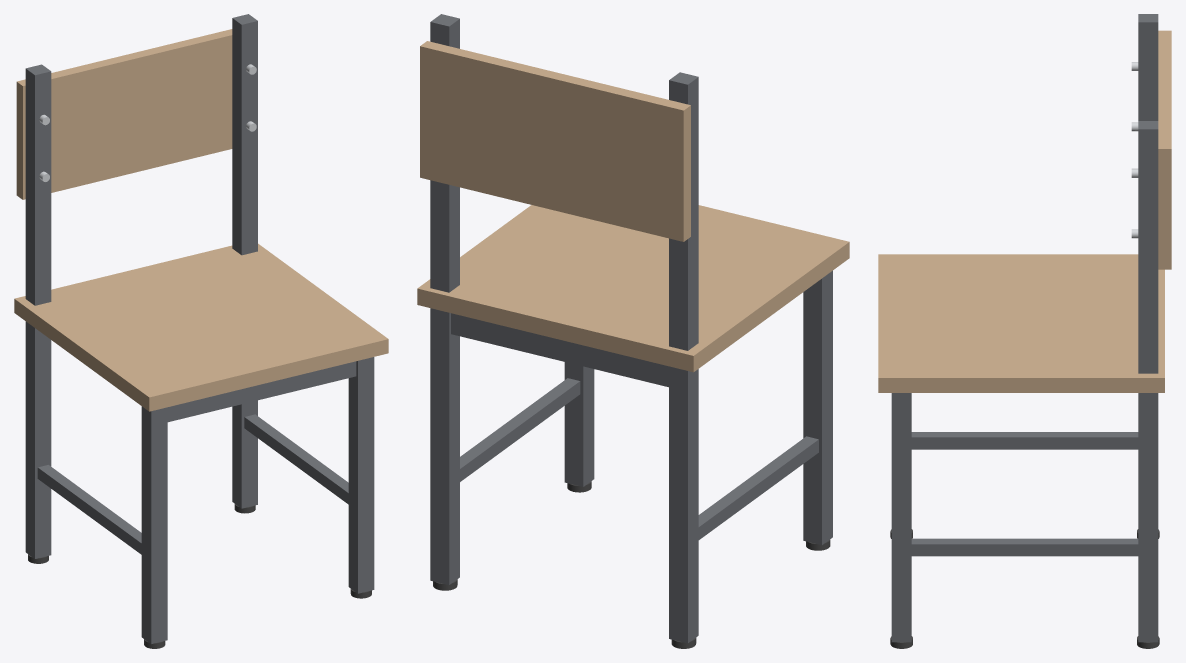
File: assembly.glb
The picture shows the model from 3 angles, left to right: view 1: azimuth 30°, elevation 25°; view 2: azimuth 150°, elevation 25°; view 3: azimuth 270°, elevation 25°; orthographic projection. The views are drawn at different scales.
Parts seen in each view (by area): view 1: seat_panel, backrest_panel, upright_rear_right, upright_rear_left, leg_front_right, leg_front_left, rail_front, stretcher_left, stretcher_right; view 2: seat_panel, backrest_panel, upright_rear_right, upright_rear_left, leg_front_right, rail_rear, leg_front_left, stretcher_right, stretcher_left; view 3: seat_panel, upright_rear_left, leg_front_left, stretcher_left, stretcher_right, backrest_panel, upright_rear_right.
Part boxes in pixels (<box>): seat_panel: <box>14,243,388,411</box>; backrest_panel: <box>16,29,232,199</box>; upright_rear_right: <box>25,64,51,558</box>; upright_rear_left: <box>232,14,257,508</box>; leg_front_right: <box>141,406,167,644</box>; leg_front_left: <box>348,357,374,593</box>; rail_front: <box>167,361,356,422</box>; stretcher_left: <box>244,414,348,504</box>; stretcher_right: <box>37,465,141,554</box>; seat_panel: <box>417,205,849,372</box>; backrest_panel: <box>420,41,690,241</box>; upright_rear_right: <box>669,72,698,643</box>; upright_rear_left: <box>430,14,459,584</box>; leg_front_right: <box>803,270,832,544</box>; rail_rear: <box>451,313,668,387</box>; leg_front_left: <box>564,362,594,486</box>; stretcher_right: <box>698,436,818,539</box>; stretcher_left: <box>460,378,580,481</box>; seat_panel: <box>878,254,1164,392</box>; upright_rear_left: <box>1138,121,1158,642</box>; leg_front_left: <box>891,393,911,642</box>; stretcher_left: <box>911,538,1138,556</box>; stretcher_right: <box>911,432,1138,449</box>; backrest_panel: <box>1158,30,1171,269</box>; upright_rear_right: <box>1138,14,1158,120</box>.
Size of the model in its own units: 0.44 by 0.86 by 0.44.
